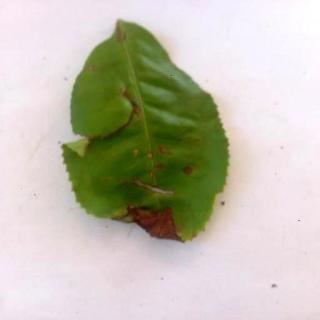Brown Blight: (63, 19, 231, 244)
